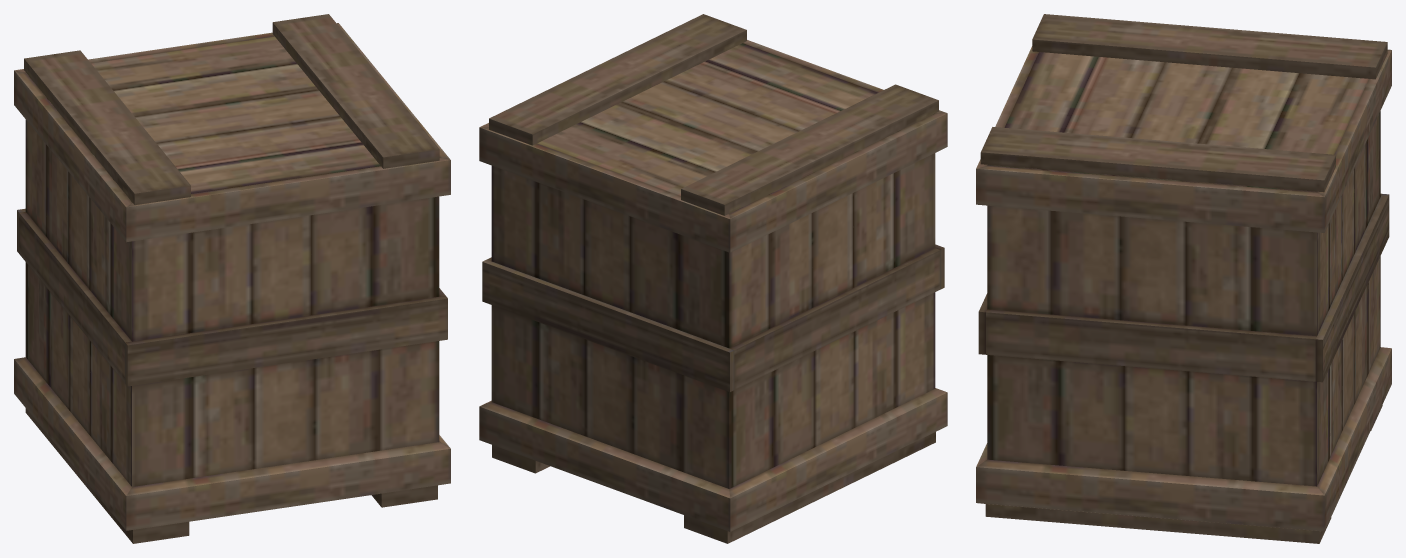
Rendered from WoodCrate_6.fbx.
3 views of the same model, side by side, from view 1: azimuth 30°, elevation 25°; view 2: azimuth 150°, elevation 25°; view 3: azimuth 270°, elevation 25° (orthographic). The views are drawn at different scales.
Parts seen in each view (by area): view 1: WoodCrate_6; view 2: WoodCrate_6; view 3: WoodCrate_6.
Part boxes in pixels (left/top/right/bottom): WoodCrate_6: left=14, top=14, right=450, bottom=543; WoodCrate_6: left=479, top=14, right=947, bottom=543; WoodCrate_6: left=976, top=14, right=1391, bottom=543.
Bounding box in the file's own units: 1.44 × 1.39 × 1.44.
